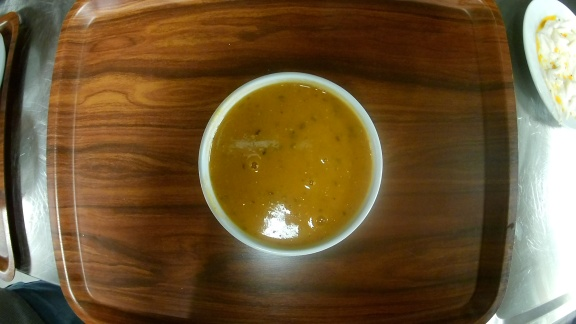ezogelin: (196, 71, 386, 256)
